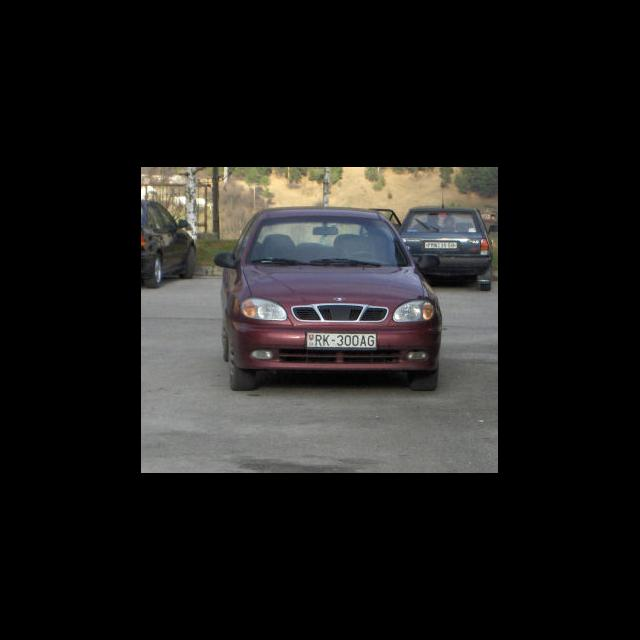Plate: (304, 330, 378, 350)
